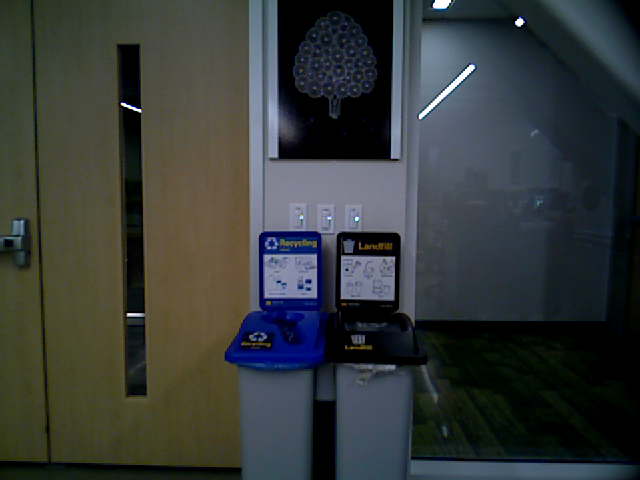painting1: (265, 1, 401, 161)
